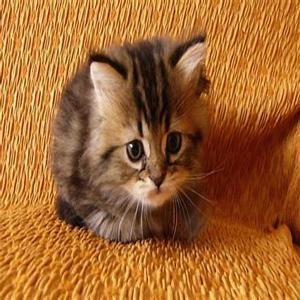cat: (61, 38, 206, 203)
